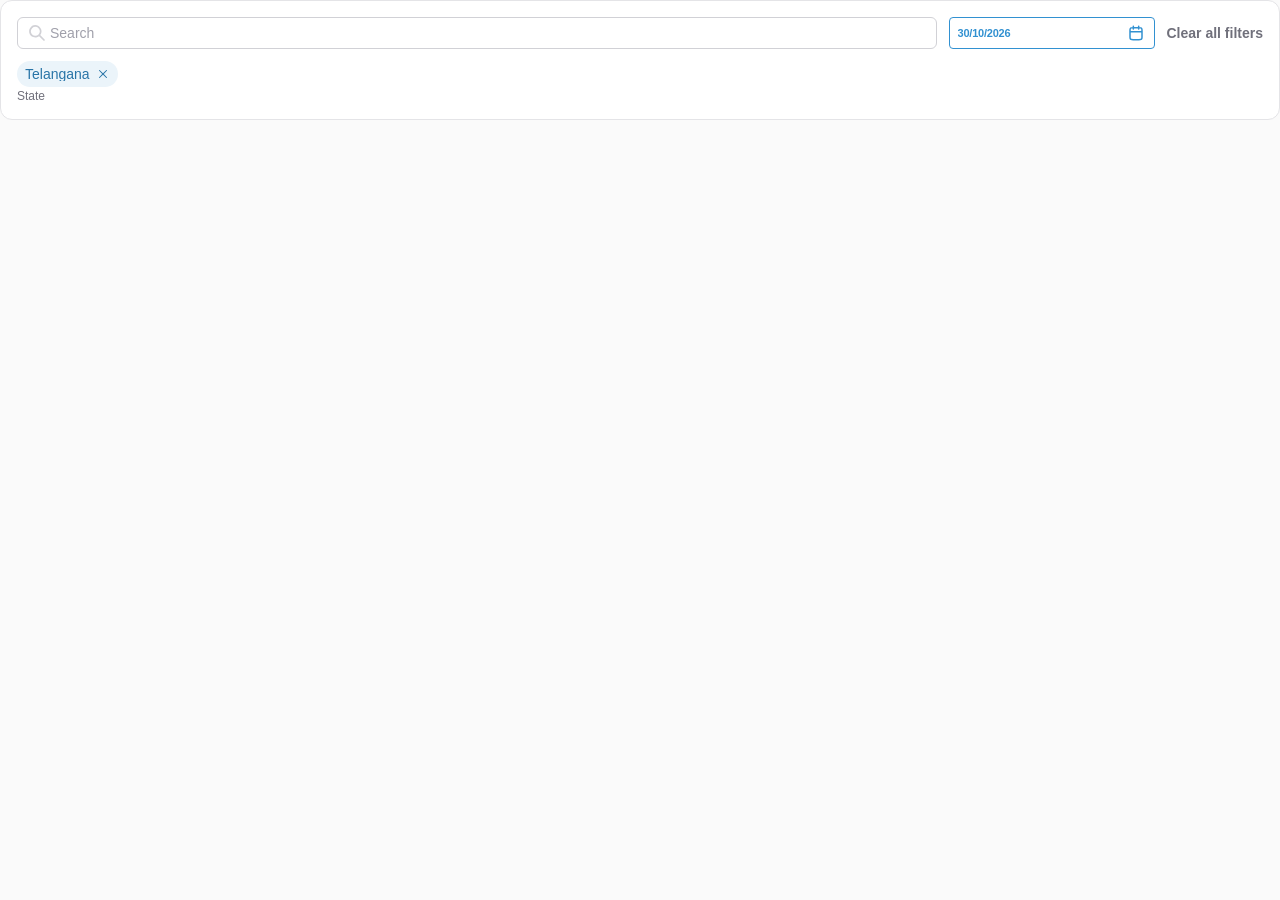
Test case: DashboardFilters › loads department hierarchy labels when the departmental tab is active
Focus the field. click: (477,33)
box: [17, 17, 936, 49]
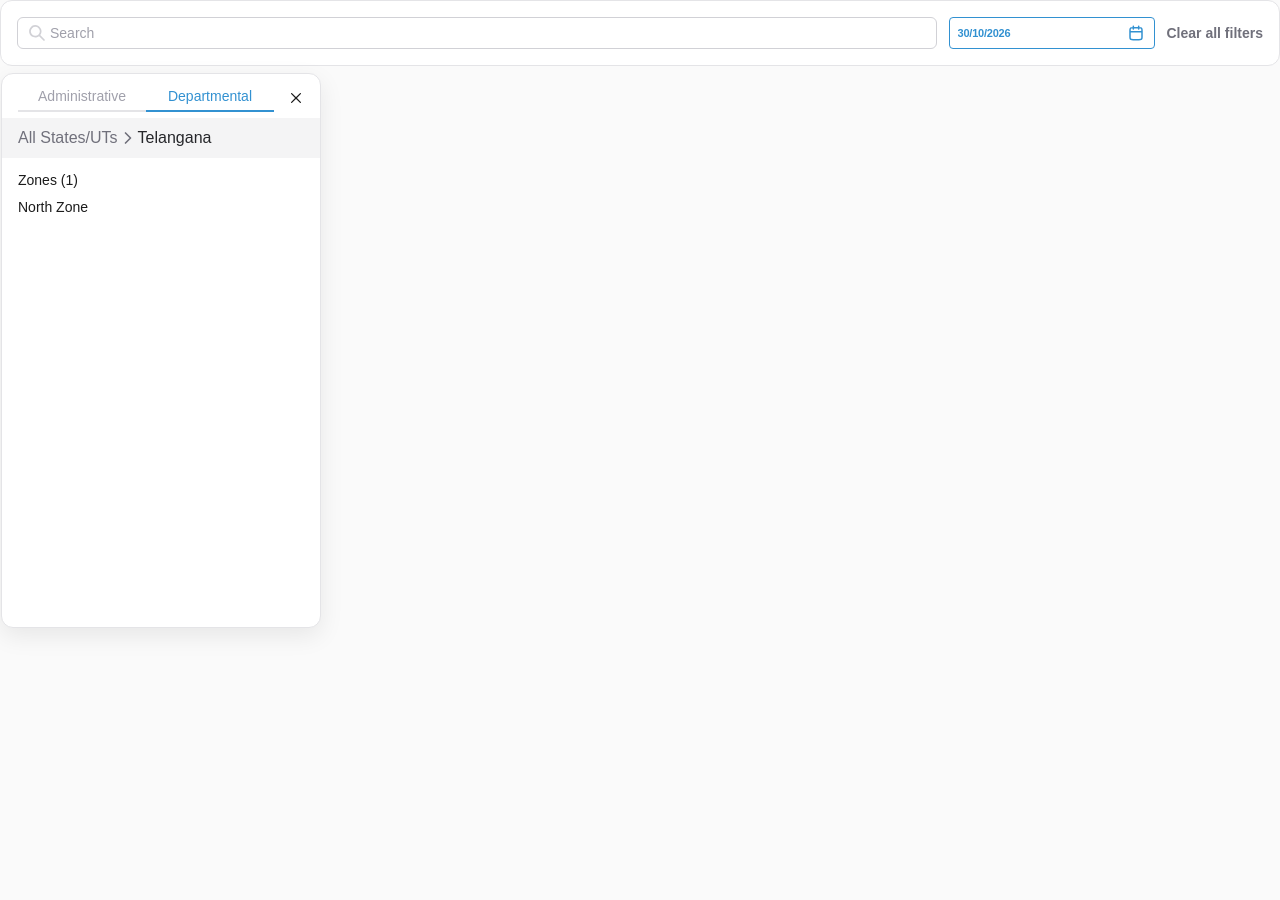
Result: the text "Zones (1)" is shown at [18, 172, 78, 188]
Result: the text "North Zone" is shown at [18, 199, 88, 215]
